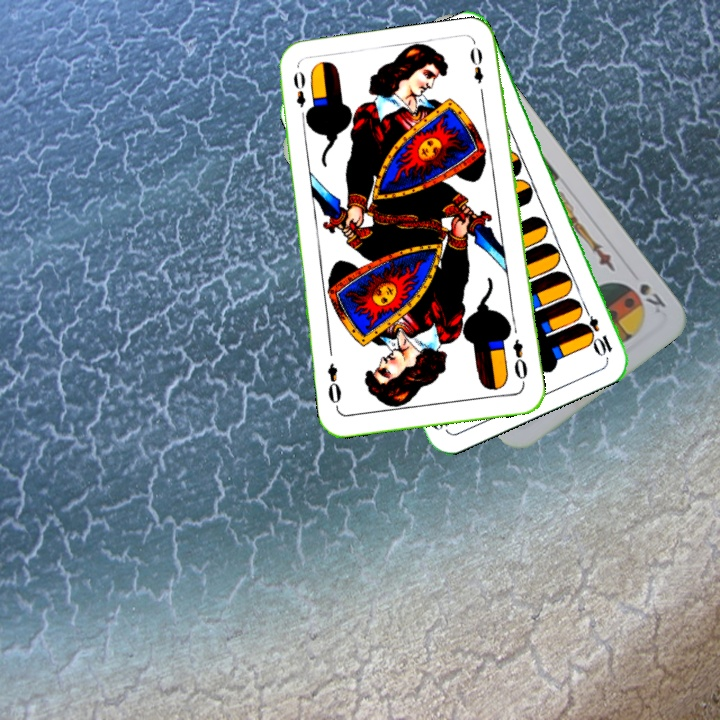E10: (578, 302, 615, 359)
EO: (289, 67, 313, 124), (509, 335, 530, 388)
SK: (635, 279, 669, 316)
